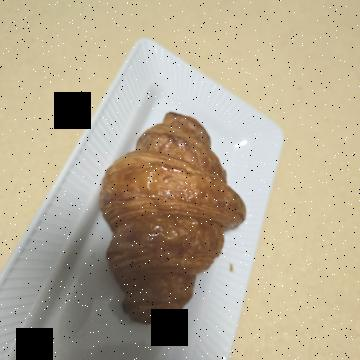croissant: (96, 110, 339, 274)
